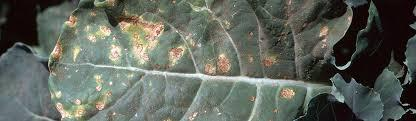Bok-Choy-Diseased: (67, 17, 307, 121)
